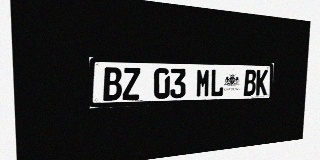0: (154, 68, 170, 99)
3: (170, 68, 186, 98)
B: (103, 67, 122, 101), (244, 70, 256, 96)
K: (256, 70, 268, 95)
L: (210, 69, 224, 97)
M: (196, 69, 210, 98)
Z: (123, 68, 140, 100)
